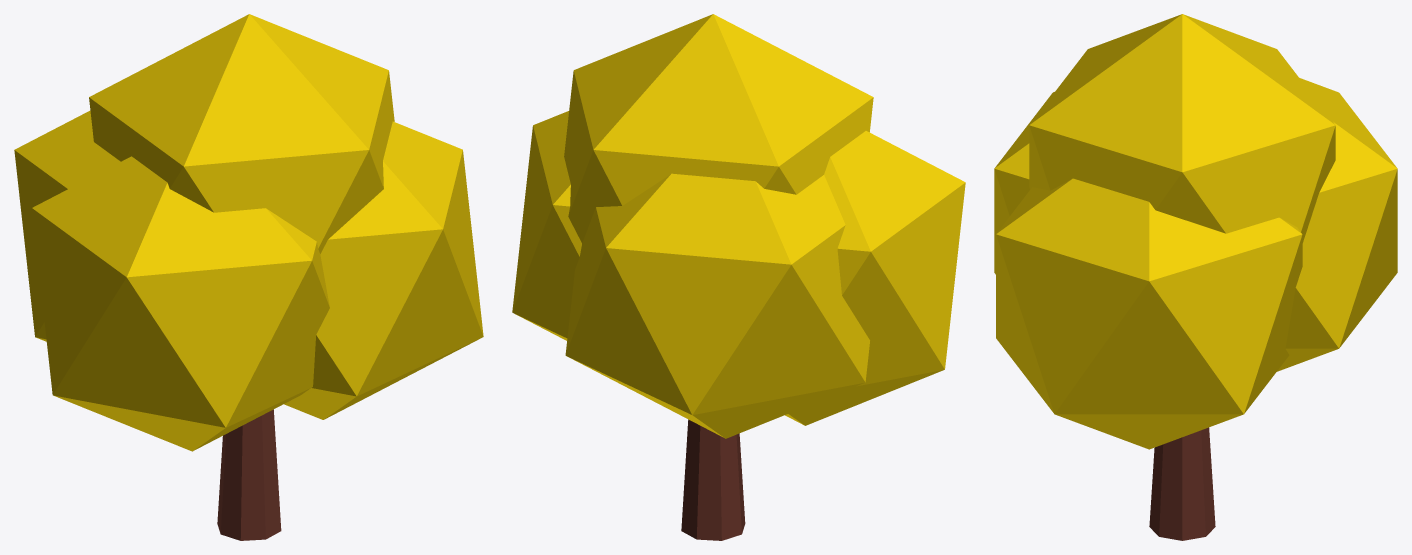
File: tree_v1.glb
3 renders of one model, left to right at view 1: azimuth 30°, elevation 25°; view 2: azimuth 150°, elevation 25°; view 3: azimuth 270°, elevation 25°, orthographic.
Visible parts, largest first — view 1: Icosphere; view 2: Icosphere; view 3: Icosphere.
Boxes of the visible parts, x1,y1,x2,y2 form: Icosphere: [14, 14, 483, 540]; Icosphere: [512, 14, 965, 540]; Icosphere: [994, 14, 1397, 540].
Bounding box in the file's own units: 14.34 × 17.12 × 12.2.
